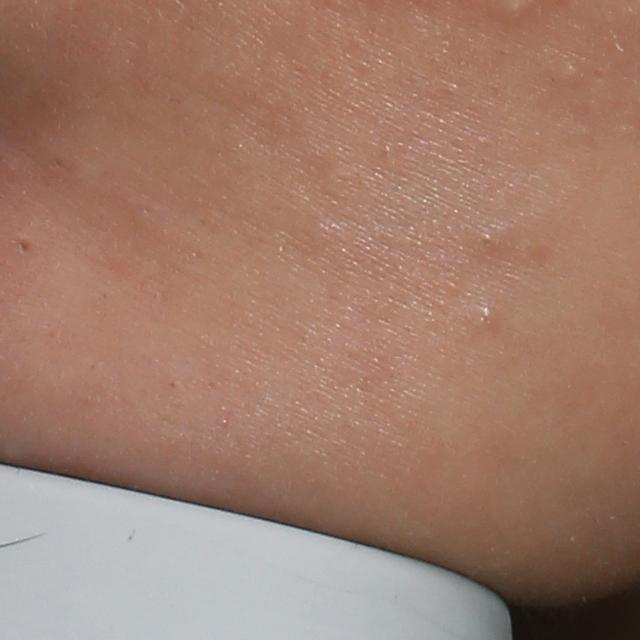comedo: (474, 302, 495, 328), (12, 234, 35, 257), (479, 230, 493, 247)
